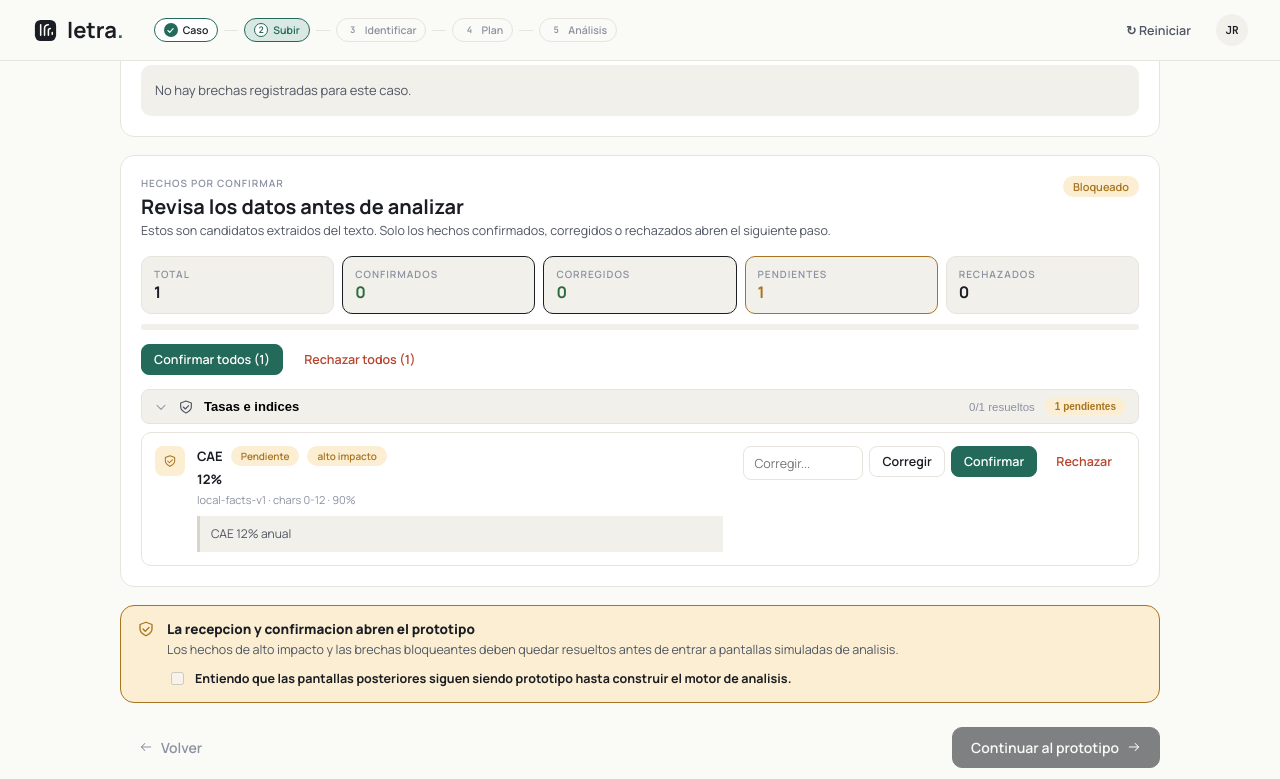
Test: Upload persistence flow › rejects non-numeric corrections before sending them to the API
This screenshot has width=1280, height=779.
(page scrolled)
Expected: the heading "Revisa los datos antes de analizar" is shown, [141,193,464,220]
Type "$" into the field named "Correccion para CAE" at (803, 463), box [743,446,863,480]
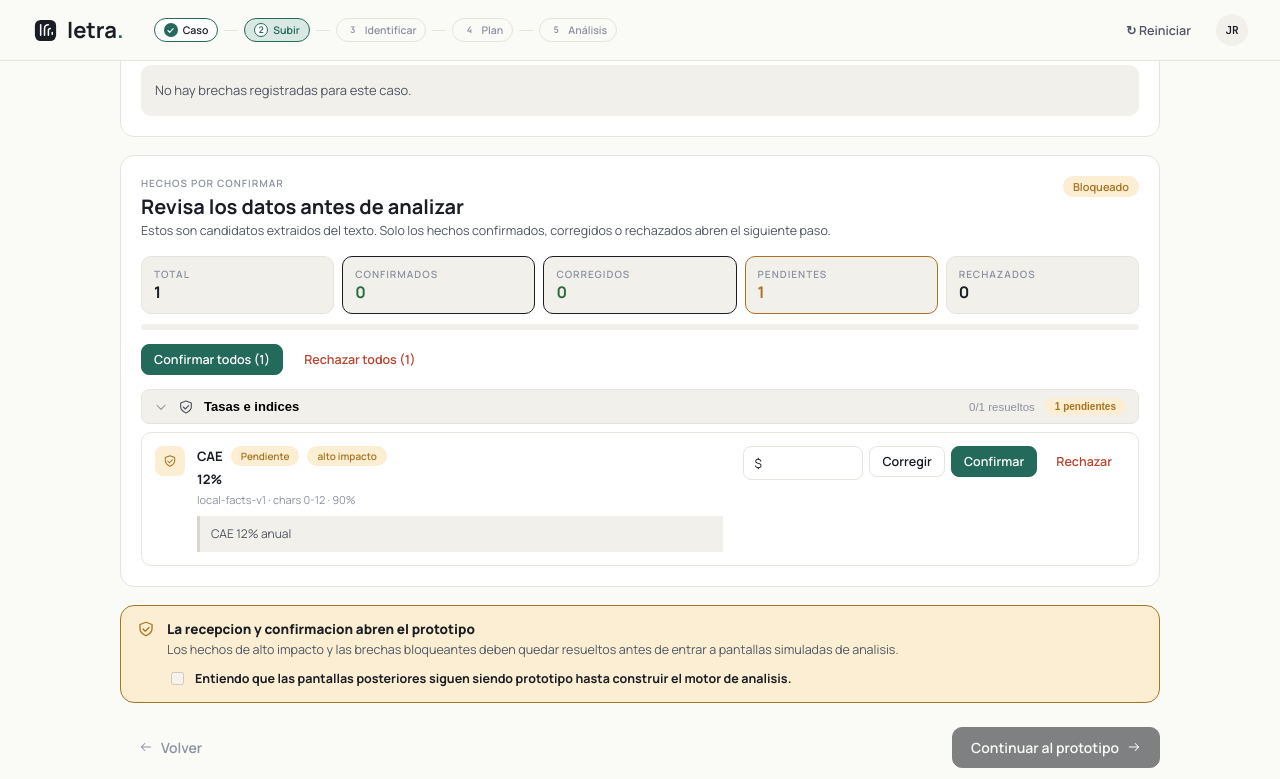
Click the button "Corregir" at (907, 462), box [869,446,945,477]
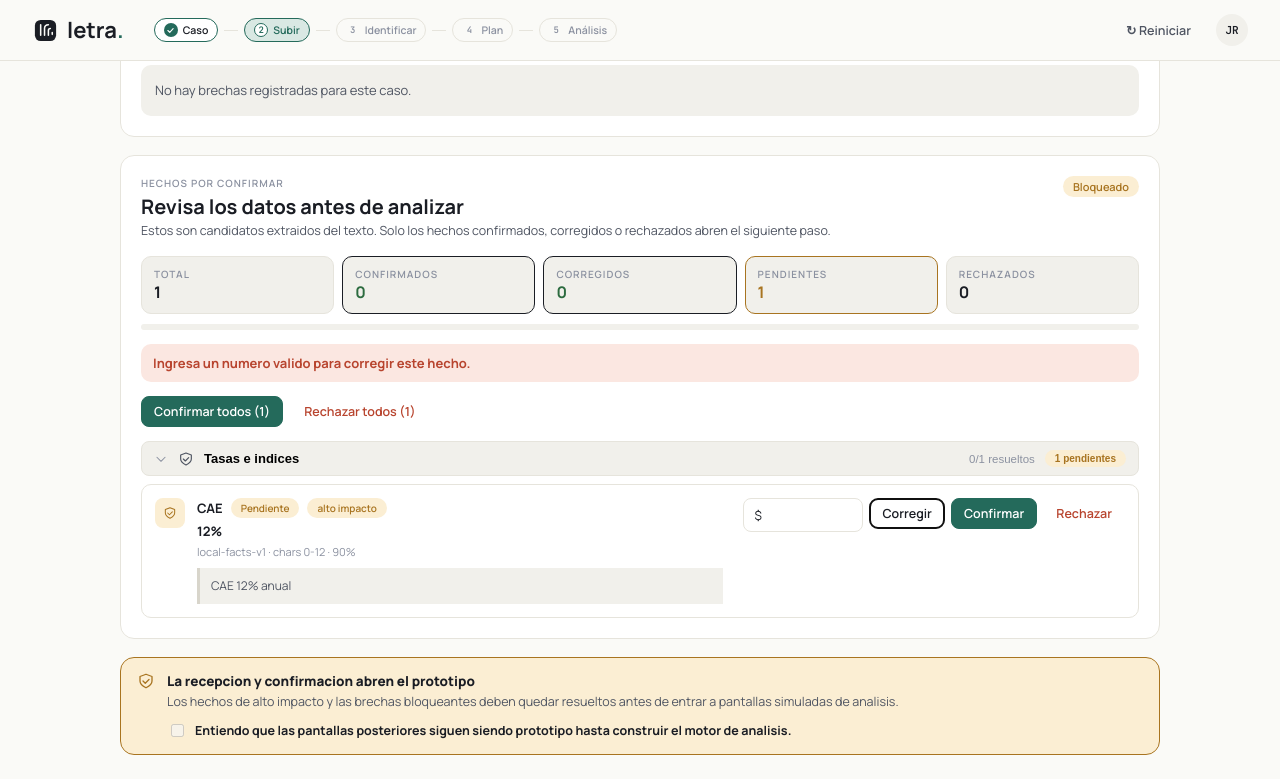
Now the text "Ingresa un numero valido para corregir este hecho." is shown, box [141,344,1139,382]
